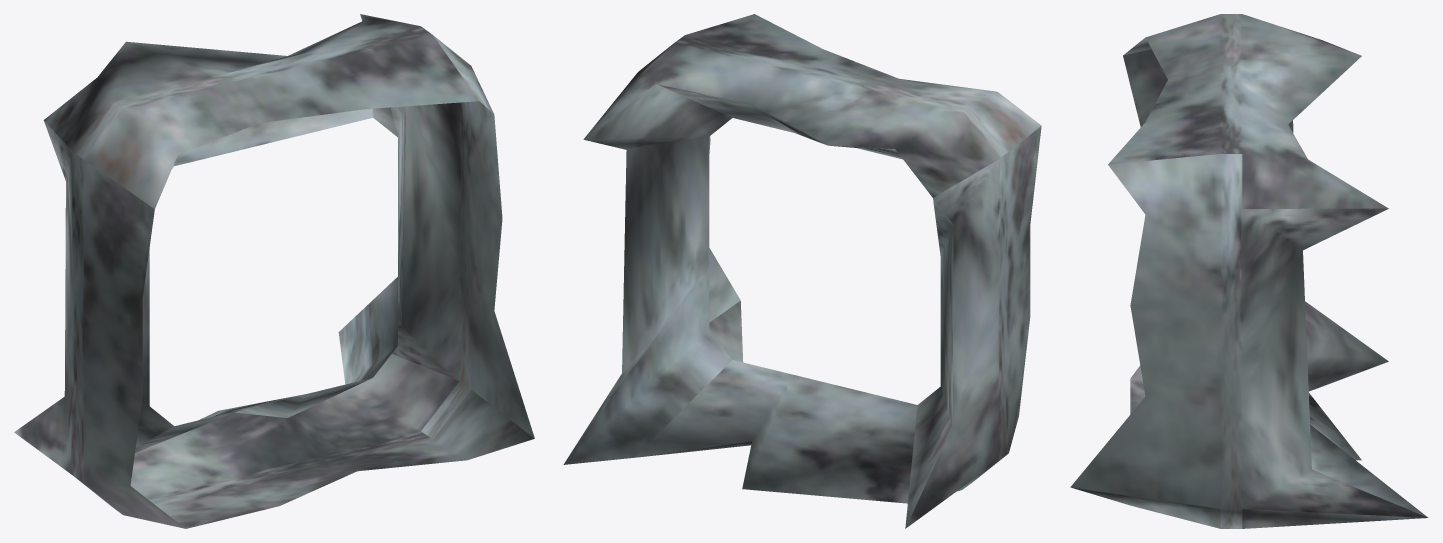
The model's file is machine2_ice.fbx.
The picture shows the model from 3 angles, left to right: view 1: azimuth 30°, elevation 25°; view 2: azimuth 150°, elevation 25°; view 3: azimuth 270°, elevation 25°; orthographic projection. The views are drawn at different scales.
Visible parts, largest first — view 1: Cube_333; view 2: Cube_333; view 3: Cube_333.
Part boxes in pixels (box(x1,y1,x2,y2)): Cube_333: box(14, 14, 534, 528); Cube_333: box(563, 14, 1041, 528); Cube_333: box(1070, 14, 1428, 528).
Bounding box in the file's own units: 5.5 × 5.5 × 4.76.
Materials: 1 (1 with a texture image).
